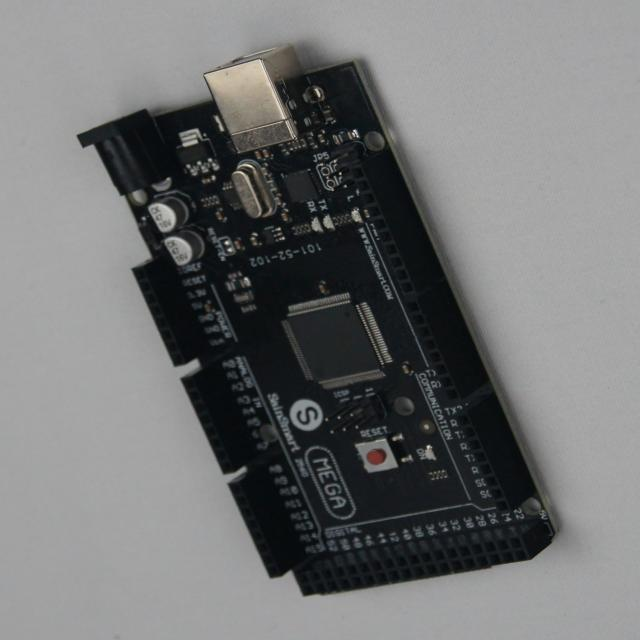Arduino Mega 2560 -Black-: (79, 48, 555, 596)
